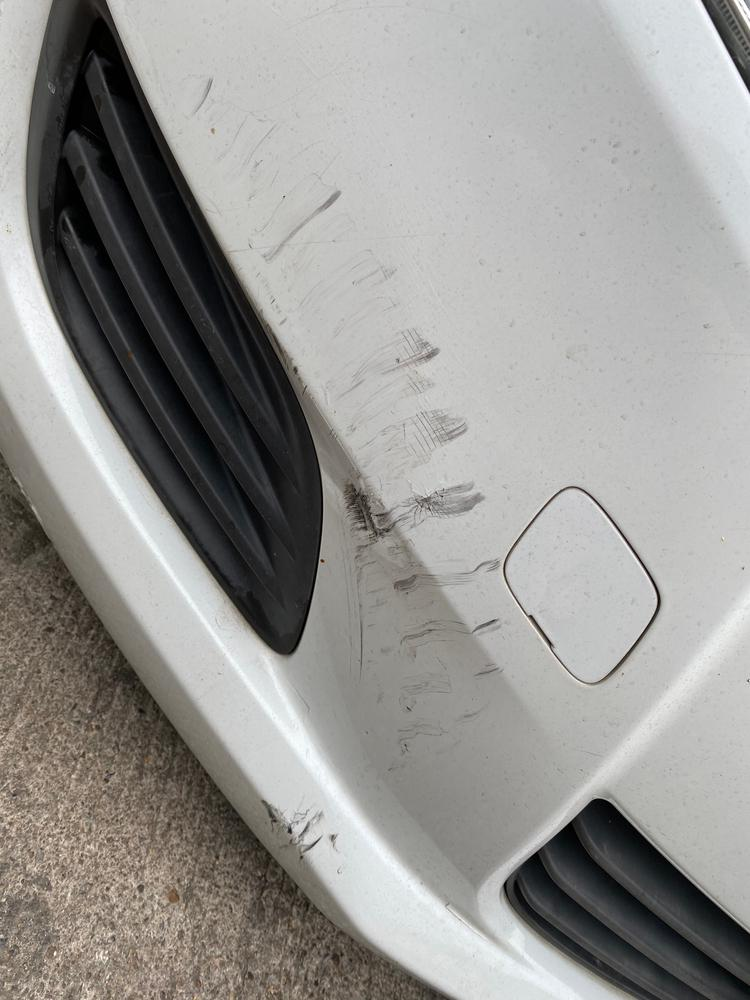scratch: (189, 69, 526, 781), (259, 803, 333, 859)
